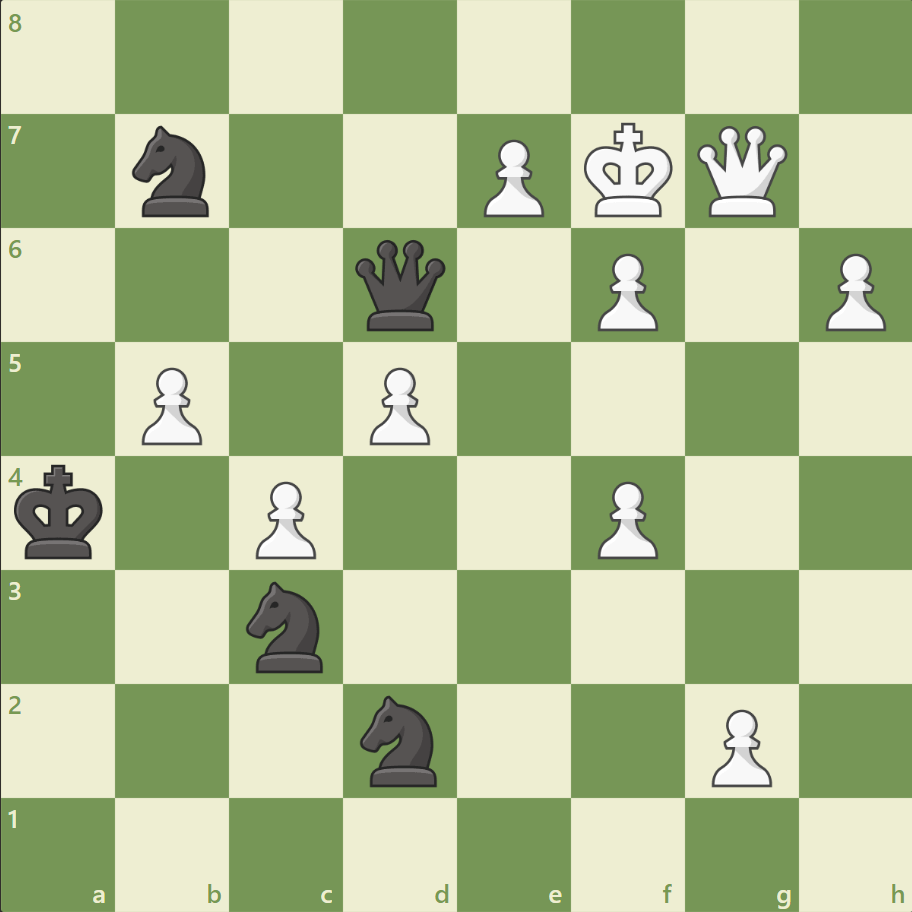K: (579, 117, 679, 225)
P: (474, 132, 549, 223), (133, 359, 208, 450), (247, 473, 322, 564), (701, 700, 776, 791), (588, 246, 662, 337), (815, 246, 889, 337), (361, 359, 435, 450), (588, 473, 662, 564)
Q: (691, 122, 790, 222)
k: (11, 458, 111, 566)
n: (351, 688, 449, 791), (124, 121, 222, 223), (238, 575, 335, 677)
q: (351, 236, 450, 335)
